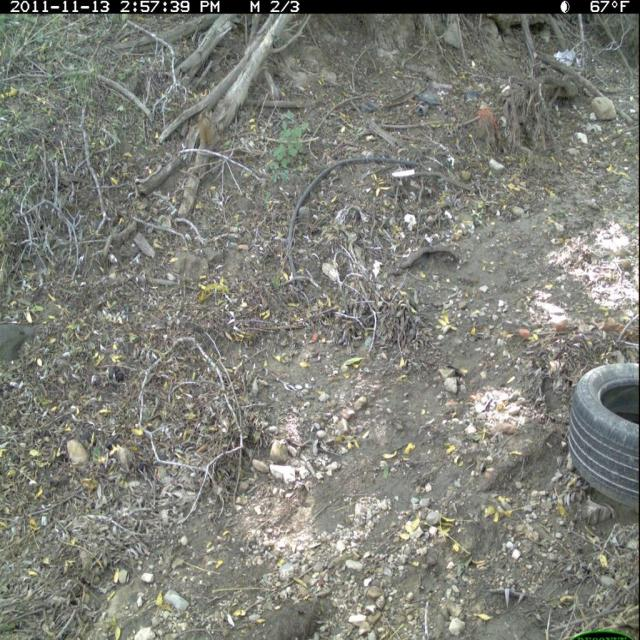squirrel: (196, 107, 218, 147)
